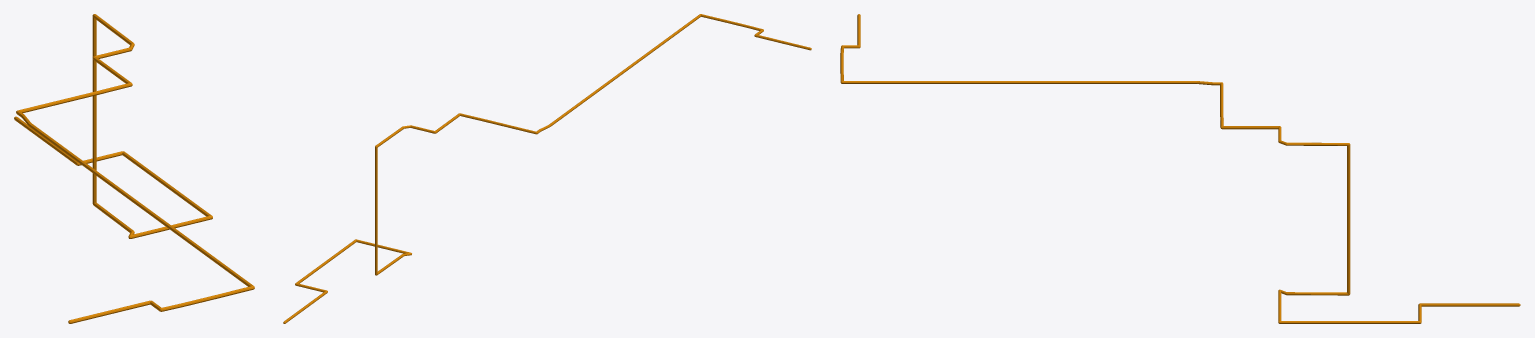
3 renders of one model, left to right at view 1: azimuth 30°, elevation 25°; view 2: azimuth 150°, elevation 25°; view 3: azimuth 270°, elevation 25°, orthographic. The views are drawn at different scales.
Size of the model in its own units: 2278 by 1020 by 4124.
